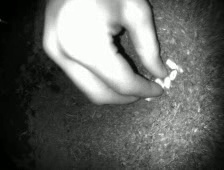corn: (163, 57, 179, 70), (152, 76, 166, 90), (162, 75, 173, 90), (168, 68, 179, 83), (175, 62, 186, 76), (143, 95, 153, 103)
